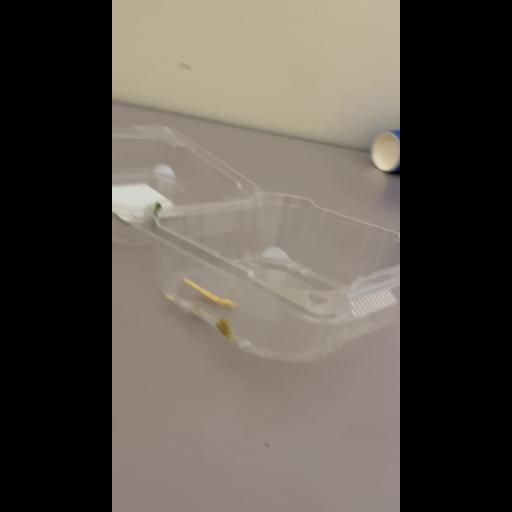small_plastic_container: (112, 115, 400, 373)
